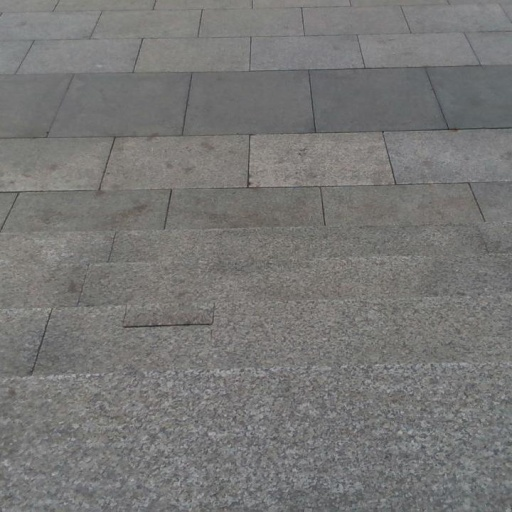Stairs: (1, 223, 512, 512)
